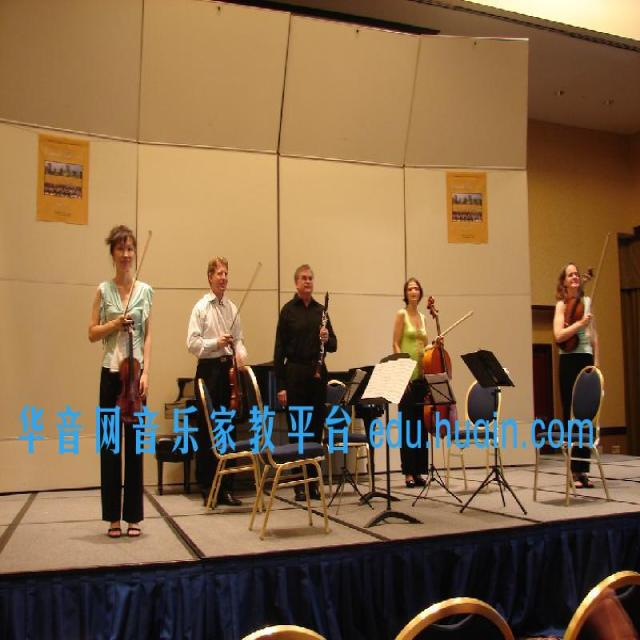cello: (420, 298, 459, 441)
clarinet: (312, 287, 334, 383)
violin: (554, 264, 598, 354), (115, 314, 148, 428), (220, 332, 248, 423)
